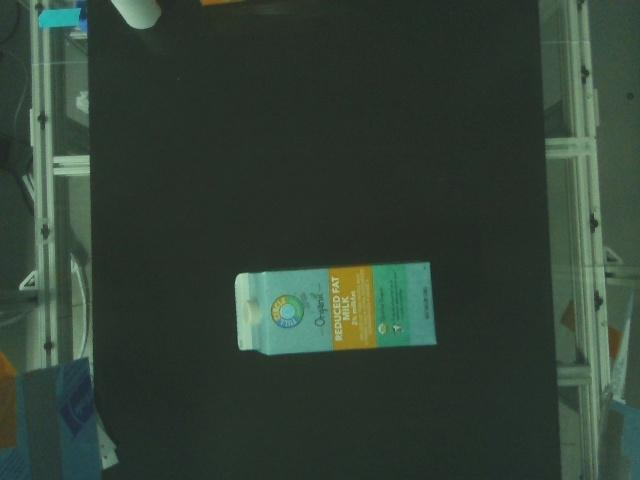cardboard: (108, 0, 164, 29), (198, 0, 247, 7)
plastic: (234, 262, 437, 356)
